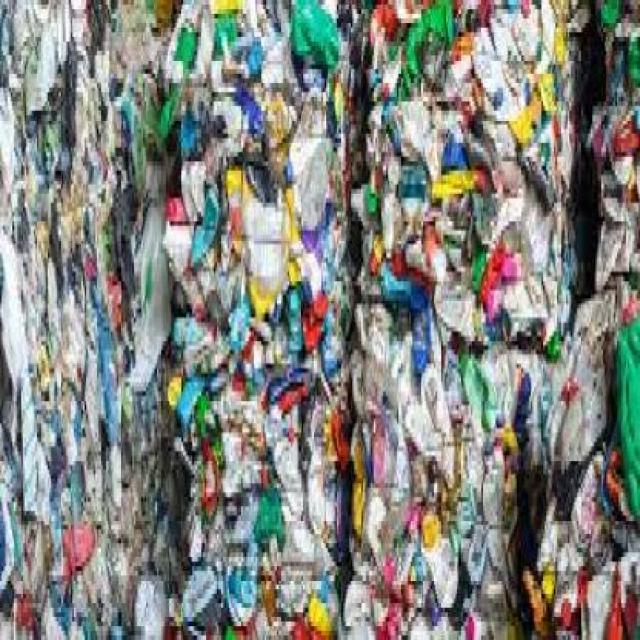garbage: (6, 14, 623, 590)
